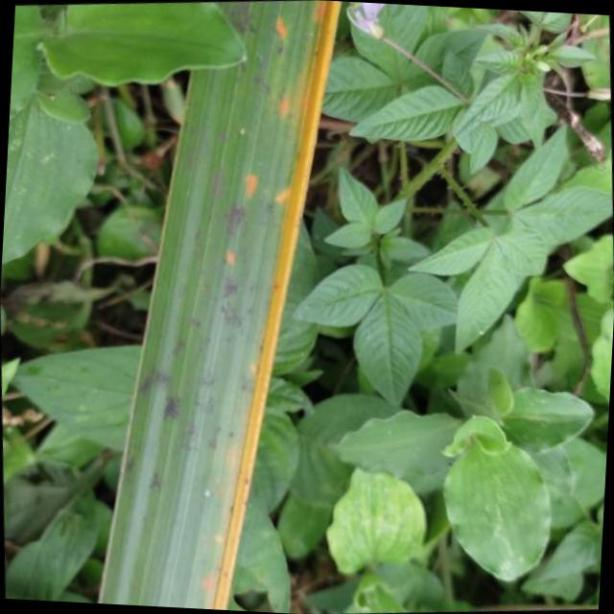Megnesium: (101, 0, 344, 614)
